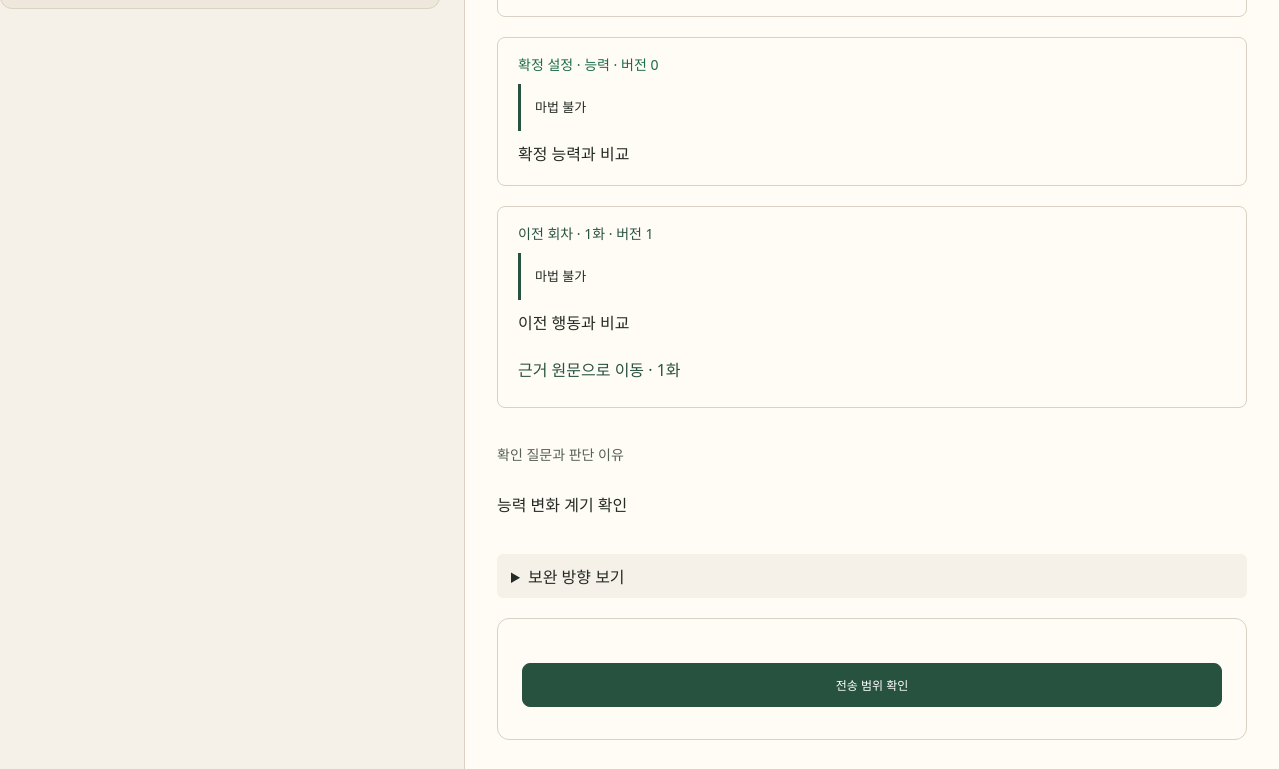
it: 이전 회차 근거로 이동할 때 해당 회차의 원고 구간을 선택한다
(page scrolled)
Click the button "근거 원문으로 이동 · 1화". click: (606,369)
box: [518, 347, 695, 391]
(page scrolled)
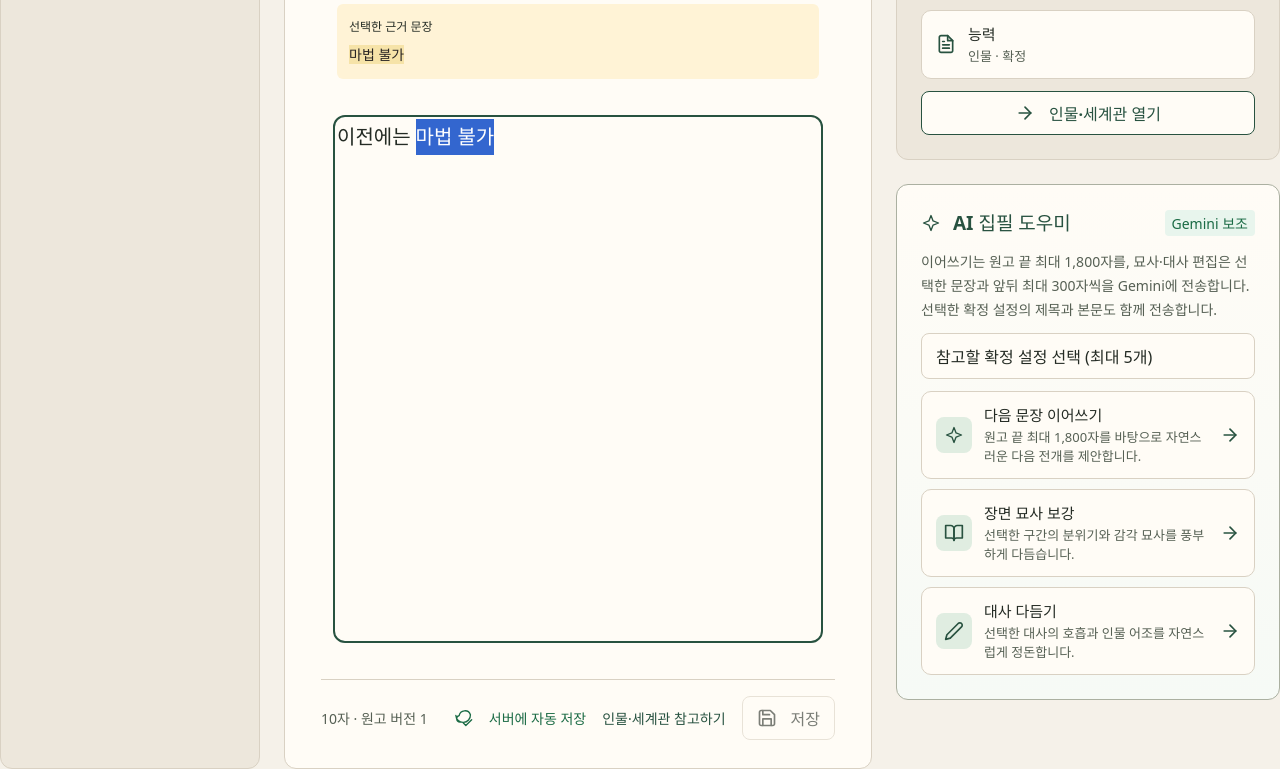
Check: the text box named "회차 원고" holds "이전에는 마법 불가", box [337, 119, 819, 639]
